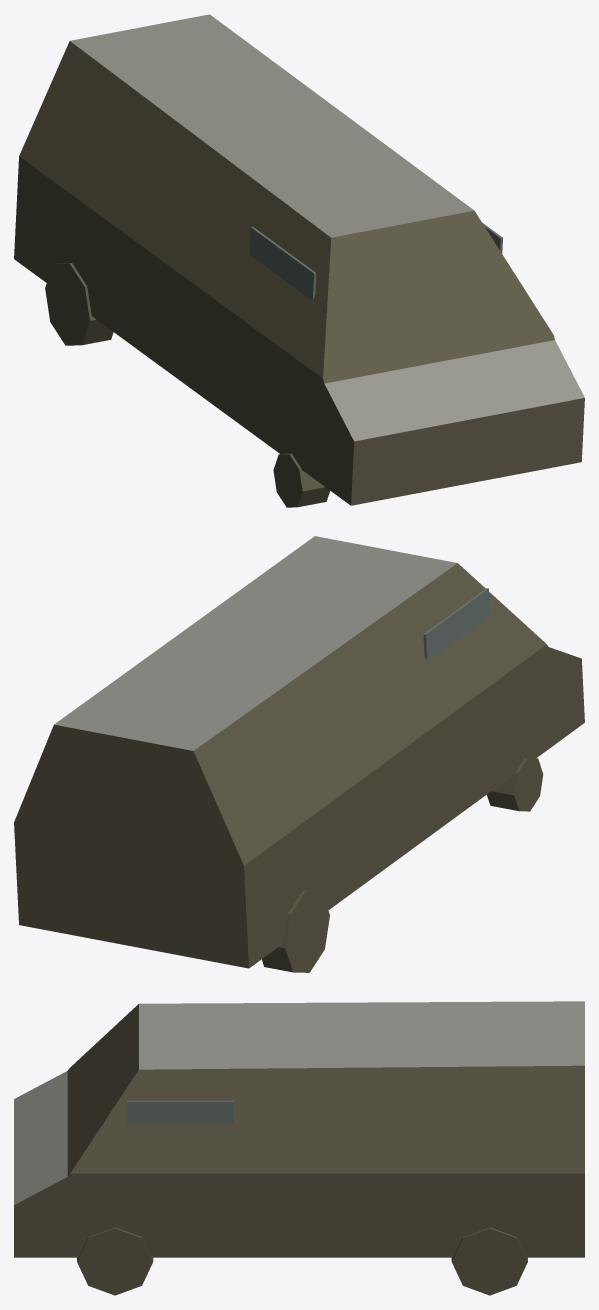
File: SM_CocheCivil_Furgoneta_v2_LOD1.fbx
The picture shows the model from 3 angles, top to bottom: view 1: azimuth 30°, elevation 25°; view 2: azimuth 150°, elevation 25°; view 3: azimuth 270°, elevation 25°; orthographic projection. The views are drawn at different scales.
Visible parts, largest first — view 1: SM_coche_civil_v12_LOD1; view 2: SM_coche_civil_v12_LOD1; view 3: SM_coche_civil_v12_LOD1.
Part boxes in pixels (x1,y1,x2,y2): SM_coche_civil_v12_LOD1: (14,14,584,507); SM_coche_civil_v12_LOD1: (14,536,584,972); SM_coche_civil_v12_LOD1: (14,1001,584,1295).
Bounding box in the file's own units: 1.98 × 2.06 × 4.8.
